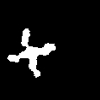single_crochet: (8, 29, 55, 76)
